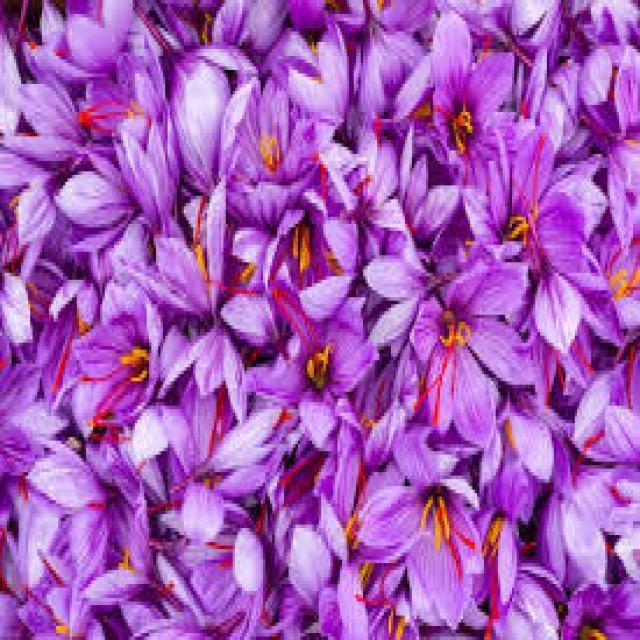Flower: (400, 262, 536, 450), (351, 476, 491, 632), (426, 34, 536, 226), (74, 274, 188, 440), (222, 68, 322, 194), (283, 291, 363, 434), (265, 207, 353, 315)
stigma: (429, 343, 459, 433), (444, 537, 472, 584), (75, 364, 135, 385), (78, 108, 138, 124)
